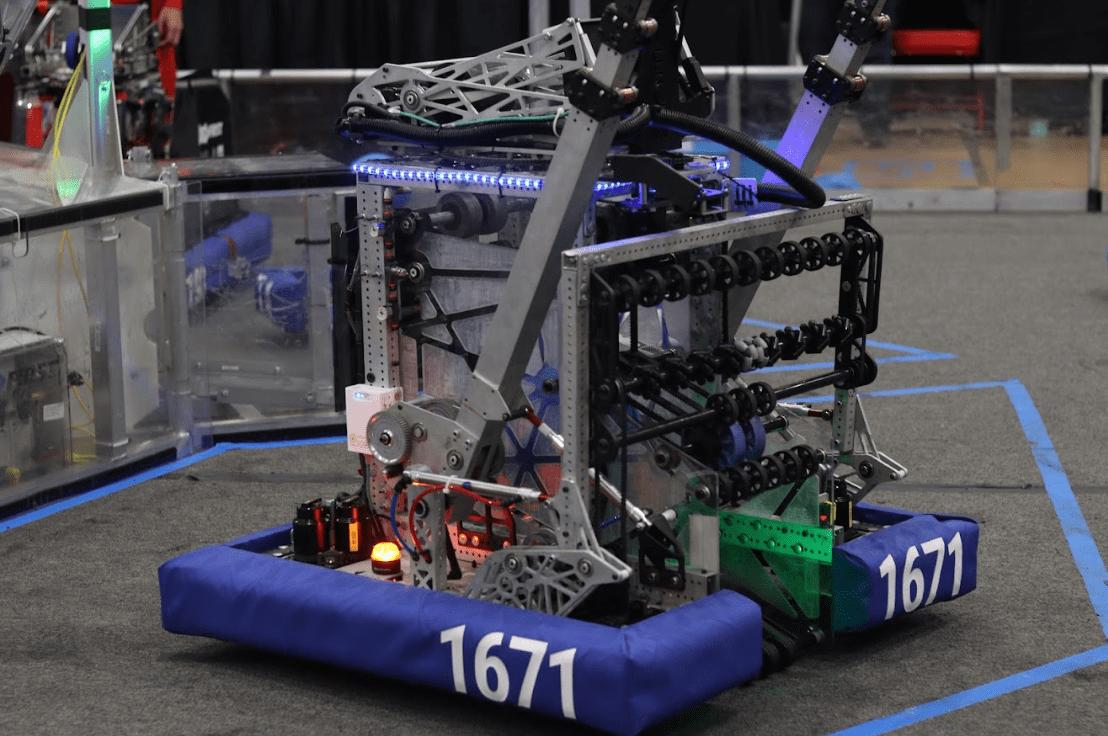robot: (153, 0, 983, 736)
